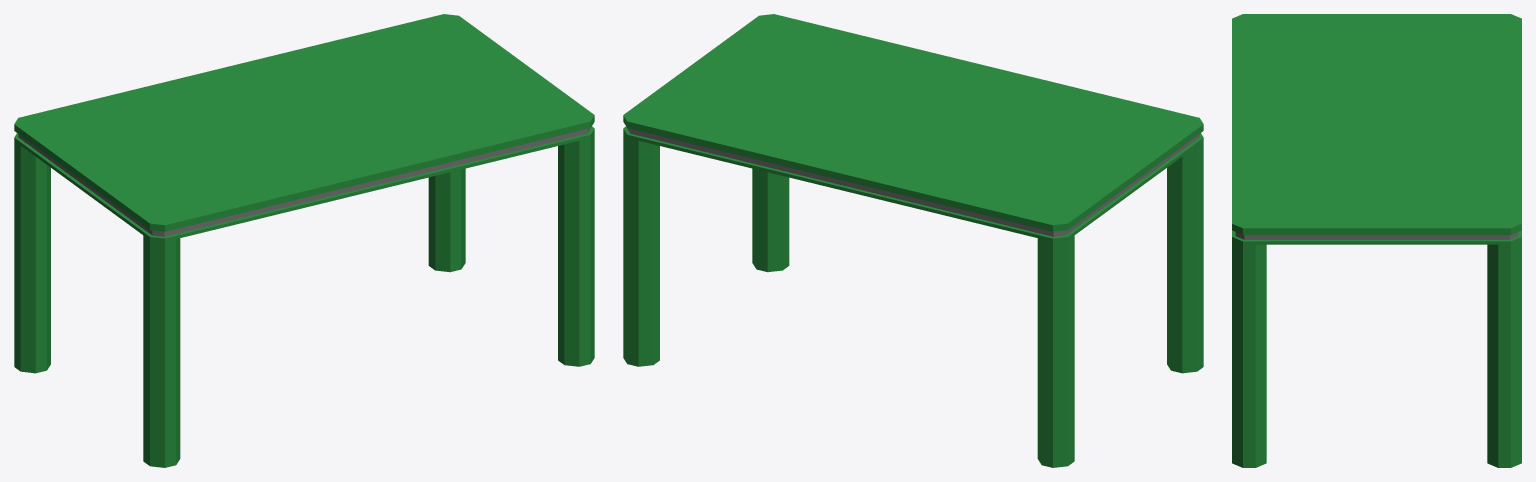
File: kitchenTable.FBX
3 renders of one model, left to right at view 1: azimuth 30°, elevation 25°; view 2: azimuth 150°, elevation 25°; view 3: azimuth 270°, elevation 25°, orthographic.
Visible parts, largest first — view 1: 1:1; view 2: 1:1; view 3: 1:1.
Part boxes in pixels (box(x1,y1,x2,y2)): 1:1: box(14, 14, 594, 467); 1:1: box(623, 14, 1203, 467); 1:1: box(1232, 14, 1521, 467).
Size of the model in its own units: 1.4 by 0.73 by 0.8.
